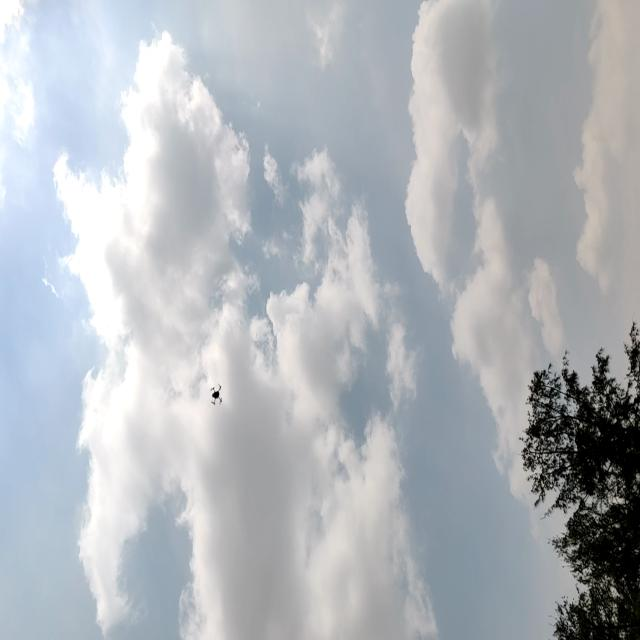drone: (201, 382, 229, 407)
